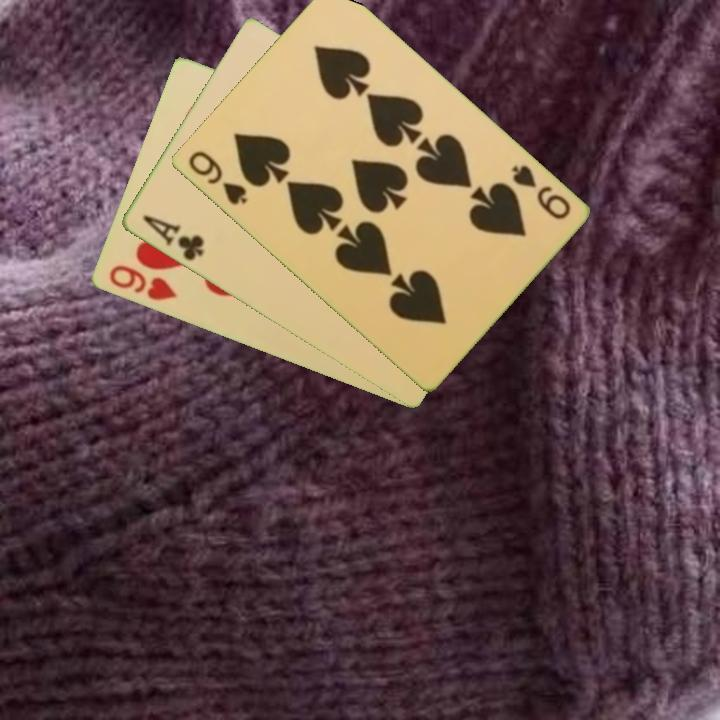9h: (105, 261, 180, 304)
9s: (506, 161, 573, 223), (184, 147, 250, 208)
Ac: (138, 211, 207, 264)
